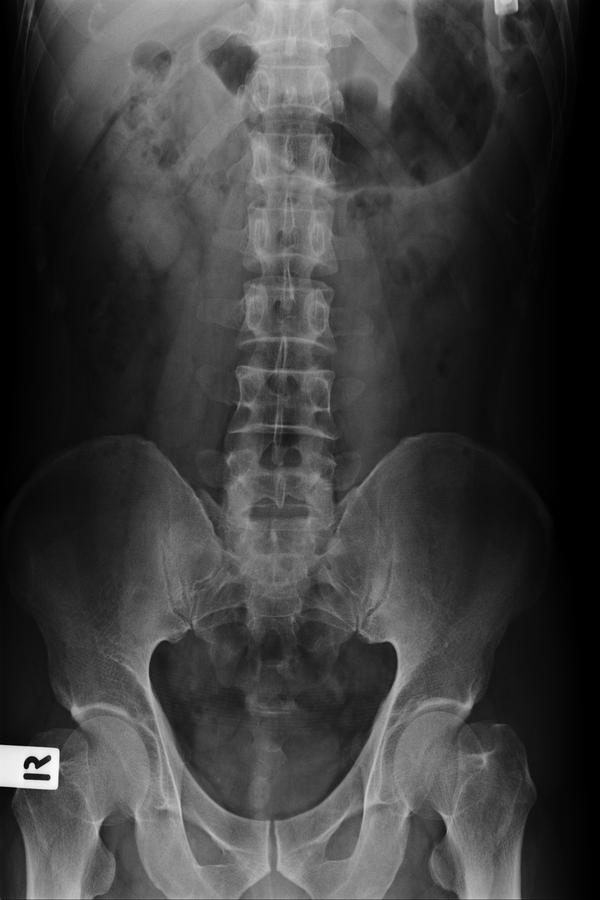not lumbar scoliosis: (224, 191, 348, 571)
